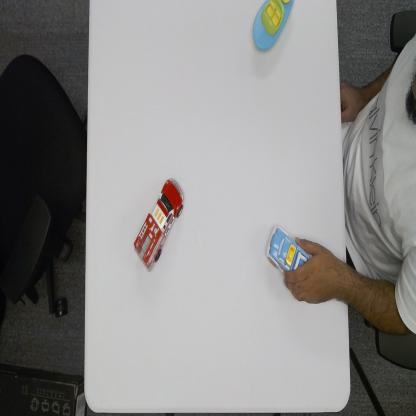Boat: (252, 0, 294, 53)
Car: (265, 223, 310, 274)
Firetruck: (131, 175, 186, 275)
Hand: (283, 234, 344, 308)
